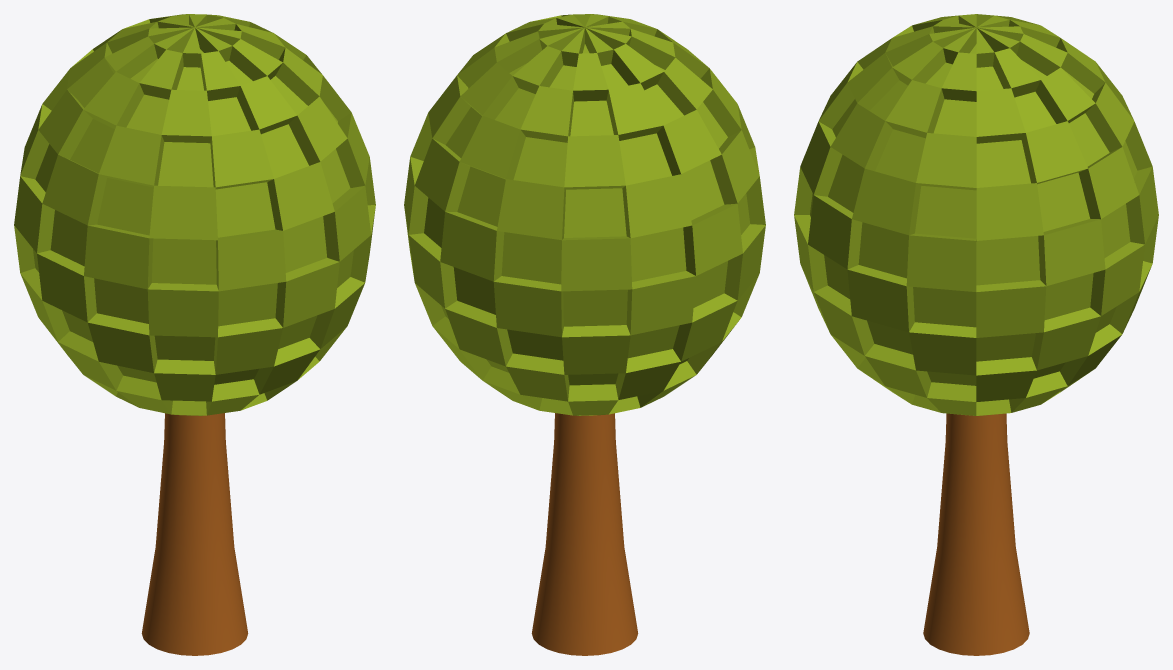
Rendered from Tree2.fbx.
3 views of the same model, side by side, from view 1: azimuth 30°, elevation 25°; view 2: azimuth 150°, elevation 25°; view 3: azimuth 270°, elevation 25° (orthographic).
Parts seen in each view (by area): view 1: Tree2; view 2: Tree2; view 3: Tree2.
Boxes of the visible parts, x1,y1,x2,y2 form: Tree2: (14,14,375,655); Tree2: (404,14,765,655); Tree2: (794,14,1158,655).
Size of the model in its own units: 2.74 by 5.02 by 2.74.
